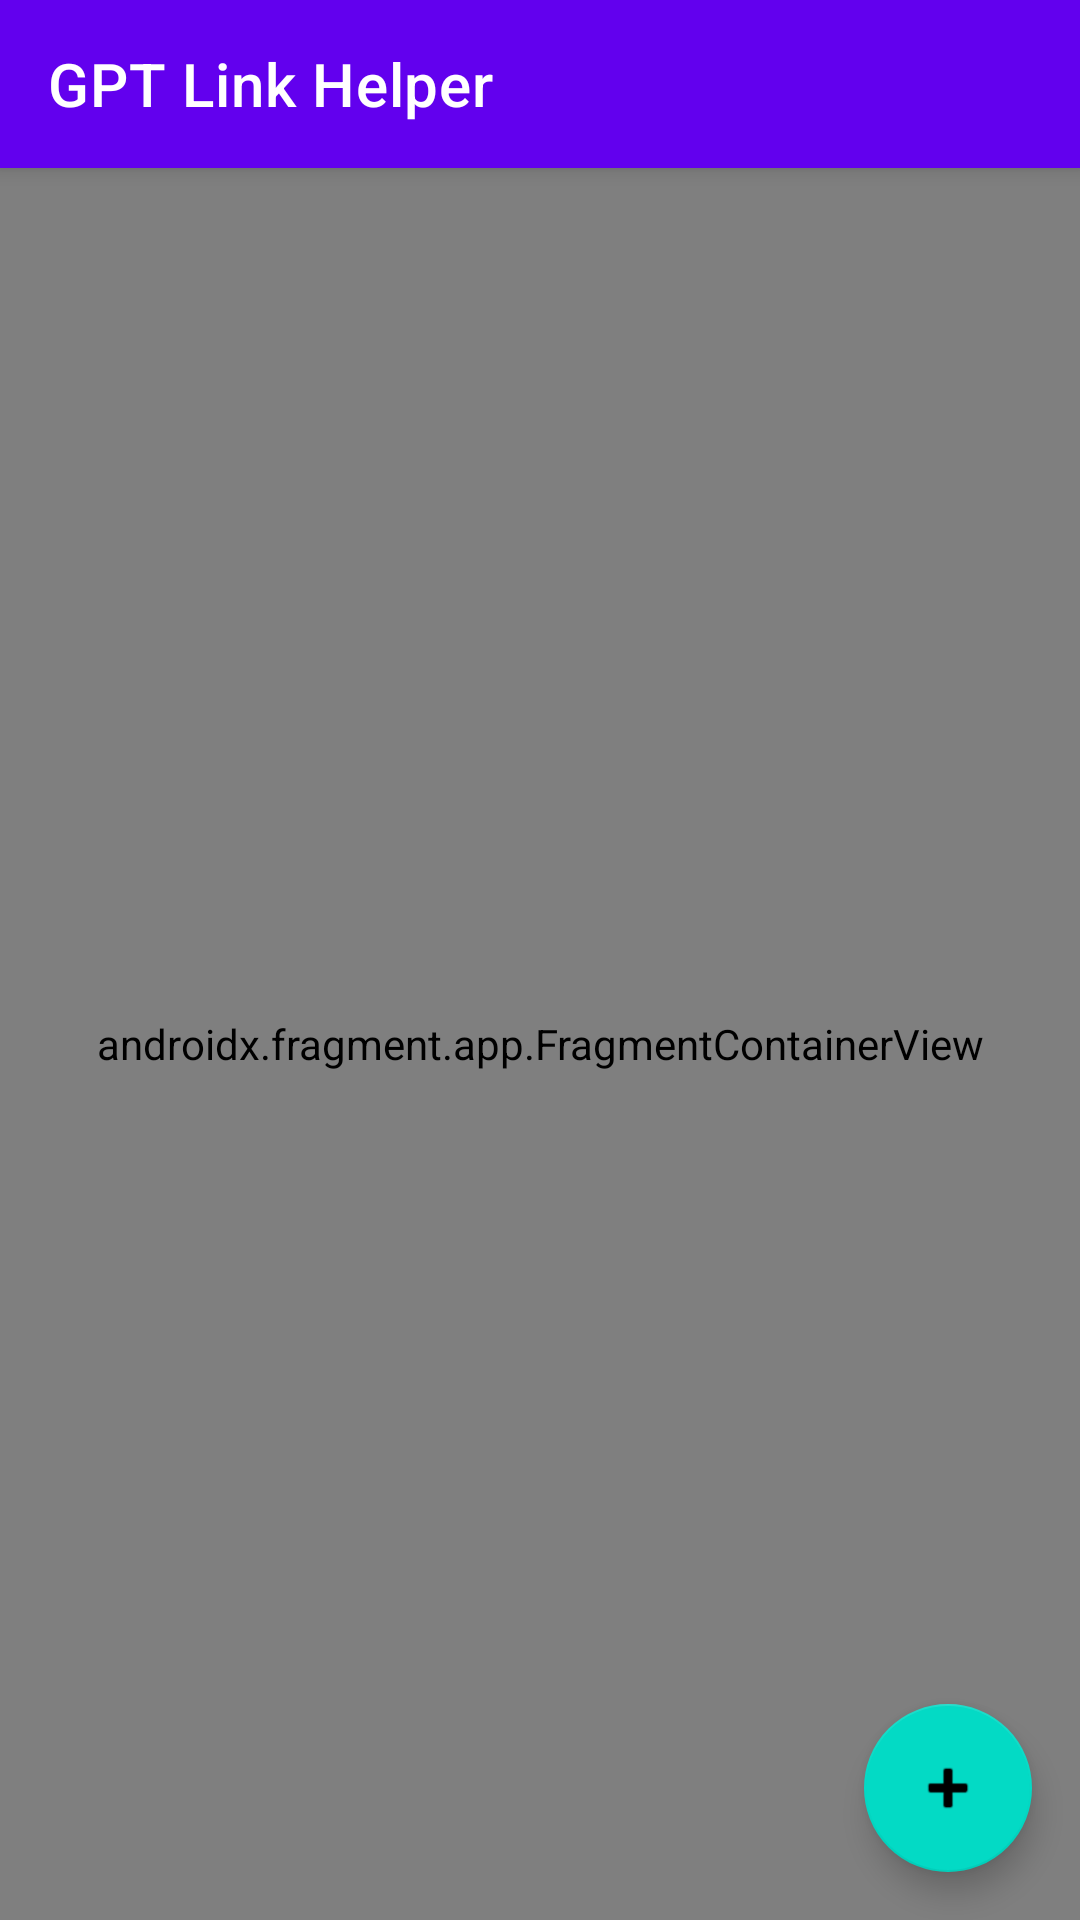

Named icons in this screenshot (1080 × 1920) and their centers, (x,y):
Add new theme: (948,1788)
